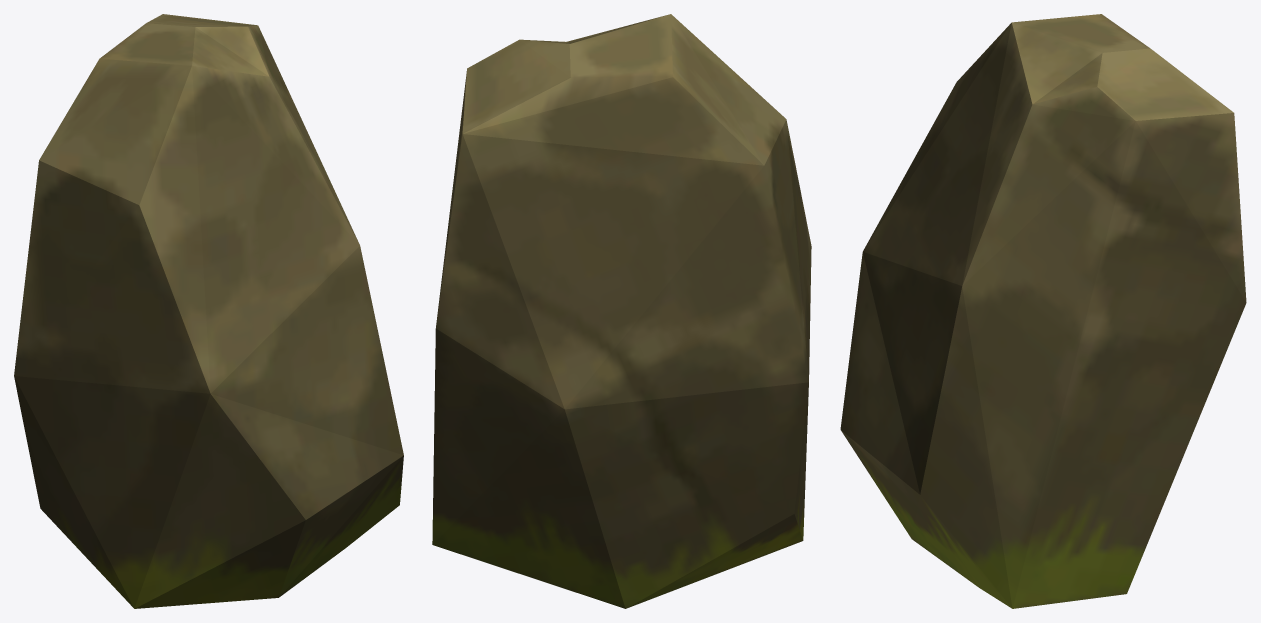
The model's file is rock_01.fbx.
3 views of the same model, side by side, from view 1: azimuth 30°, elevation 25°; view 2: azimuth 150°, elevation 25°; view 3: azimuth 270°, elevation 25° (orthographic). The views are drawn at different scales.
Parts seen in each view (by area): view 1: obj0.006; view 2: obj0.006; view 3: obj0.006.
Boxes of the visible parts, x1=… form: obj0.006: x1=14, y1=14, x2=403, y2=608; obj0.006: x1=432, y1=14, x2=811, y2=608; obj0.006: x1=840, y1=14, x2=1246, y2=608.
Size of the model in its own units: 2.03 by 2.72 by 1.99.
